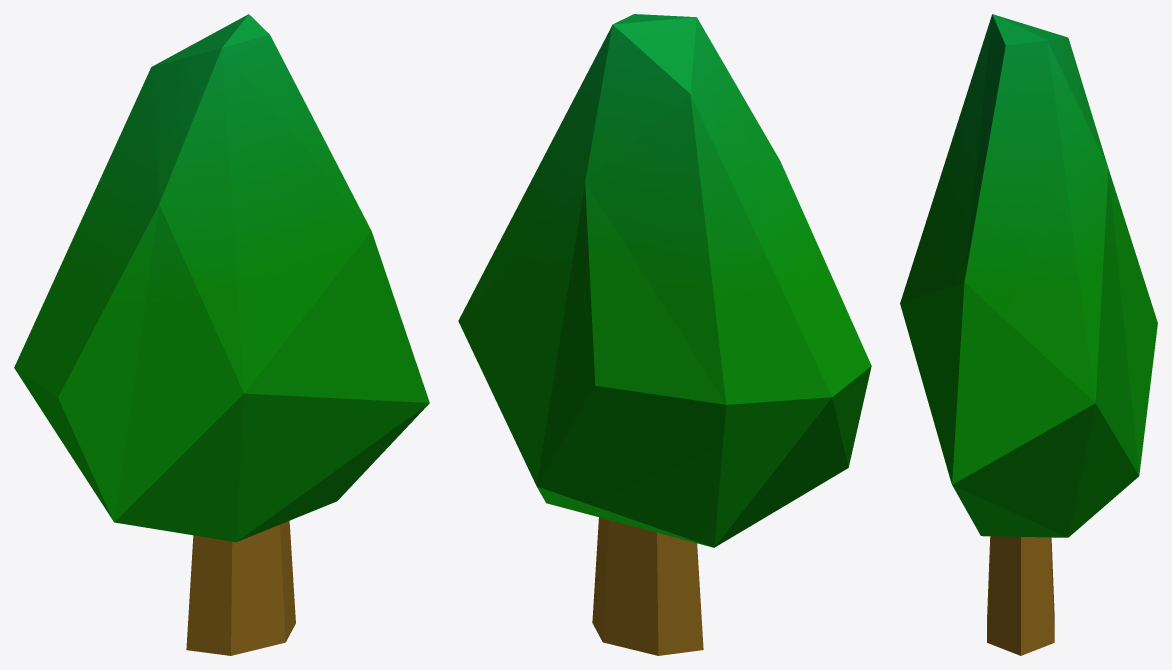
Rendered from Tree_04.fbx.
3 renders of one model, left to right at view 1: azimuth 30°, elevation 25°; view 2: azimuth 150°, elevation 25°; view 3: azimuth 270°, elevation 25°, orthographic. The views are drawn at different scales.
Visible parts, largest first — view 1: Tree_04; view 2: Tree_04; view 3: Tree_04.
Part boxes in pixels (<box>): Tree_04: <box>14,14,429,655</box>; Tree_04: <box>458,14,871,655</box>; Tree_04: <box>900,14,1157,655</box>.
Size of the model in its own units: 9210 by 14928 by 5822.
